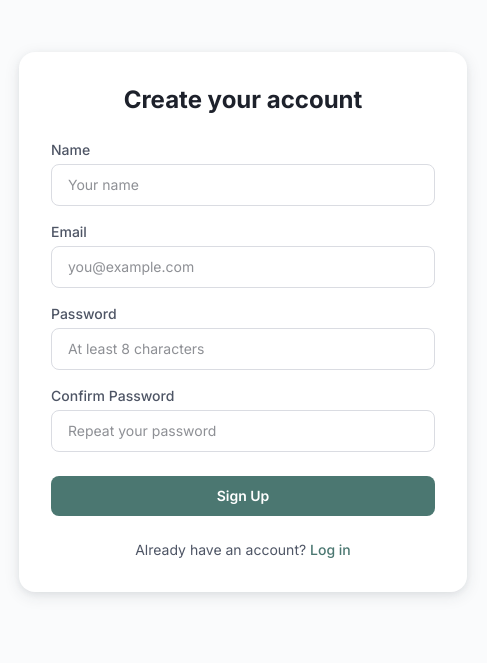
SignupPage › shows client-side errors for empty fields
Click the button "Sign Up" at (243, 496), box x1=51 y1=476 x2=435 y2=516
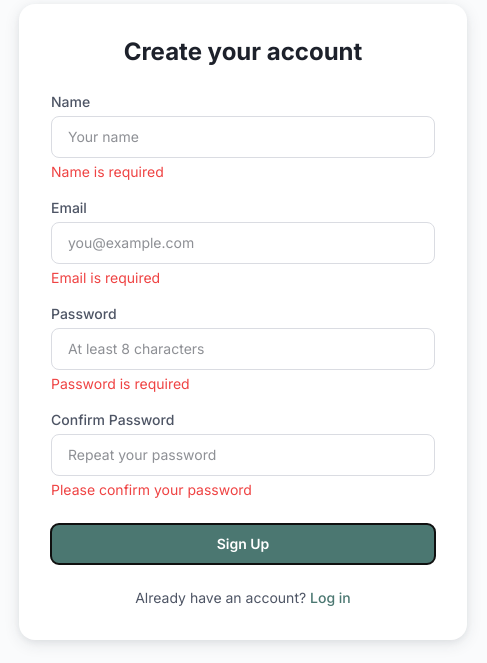
Expected: the text "Name is required" is shown, x1=51 y1=163 x2=164 y2=180
Expected: the text "Email is required" is shown, x1=51 y1=269 x2=160 y2=286
Expected: the text "Password is required" is shown, x1=51 y1=375 x2=190 y2=392
